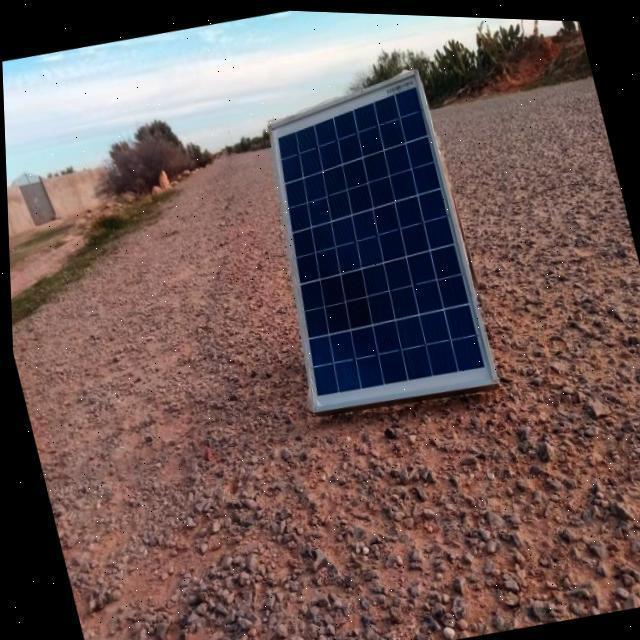Normal Solar Panel: (235, 61, 492, 418)
